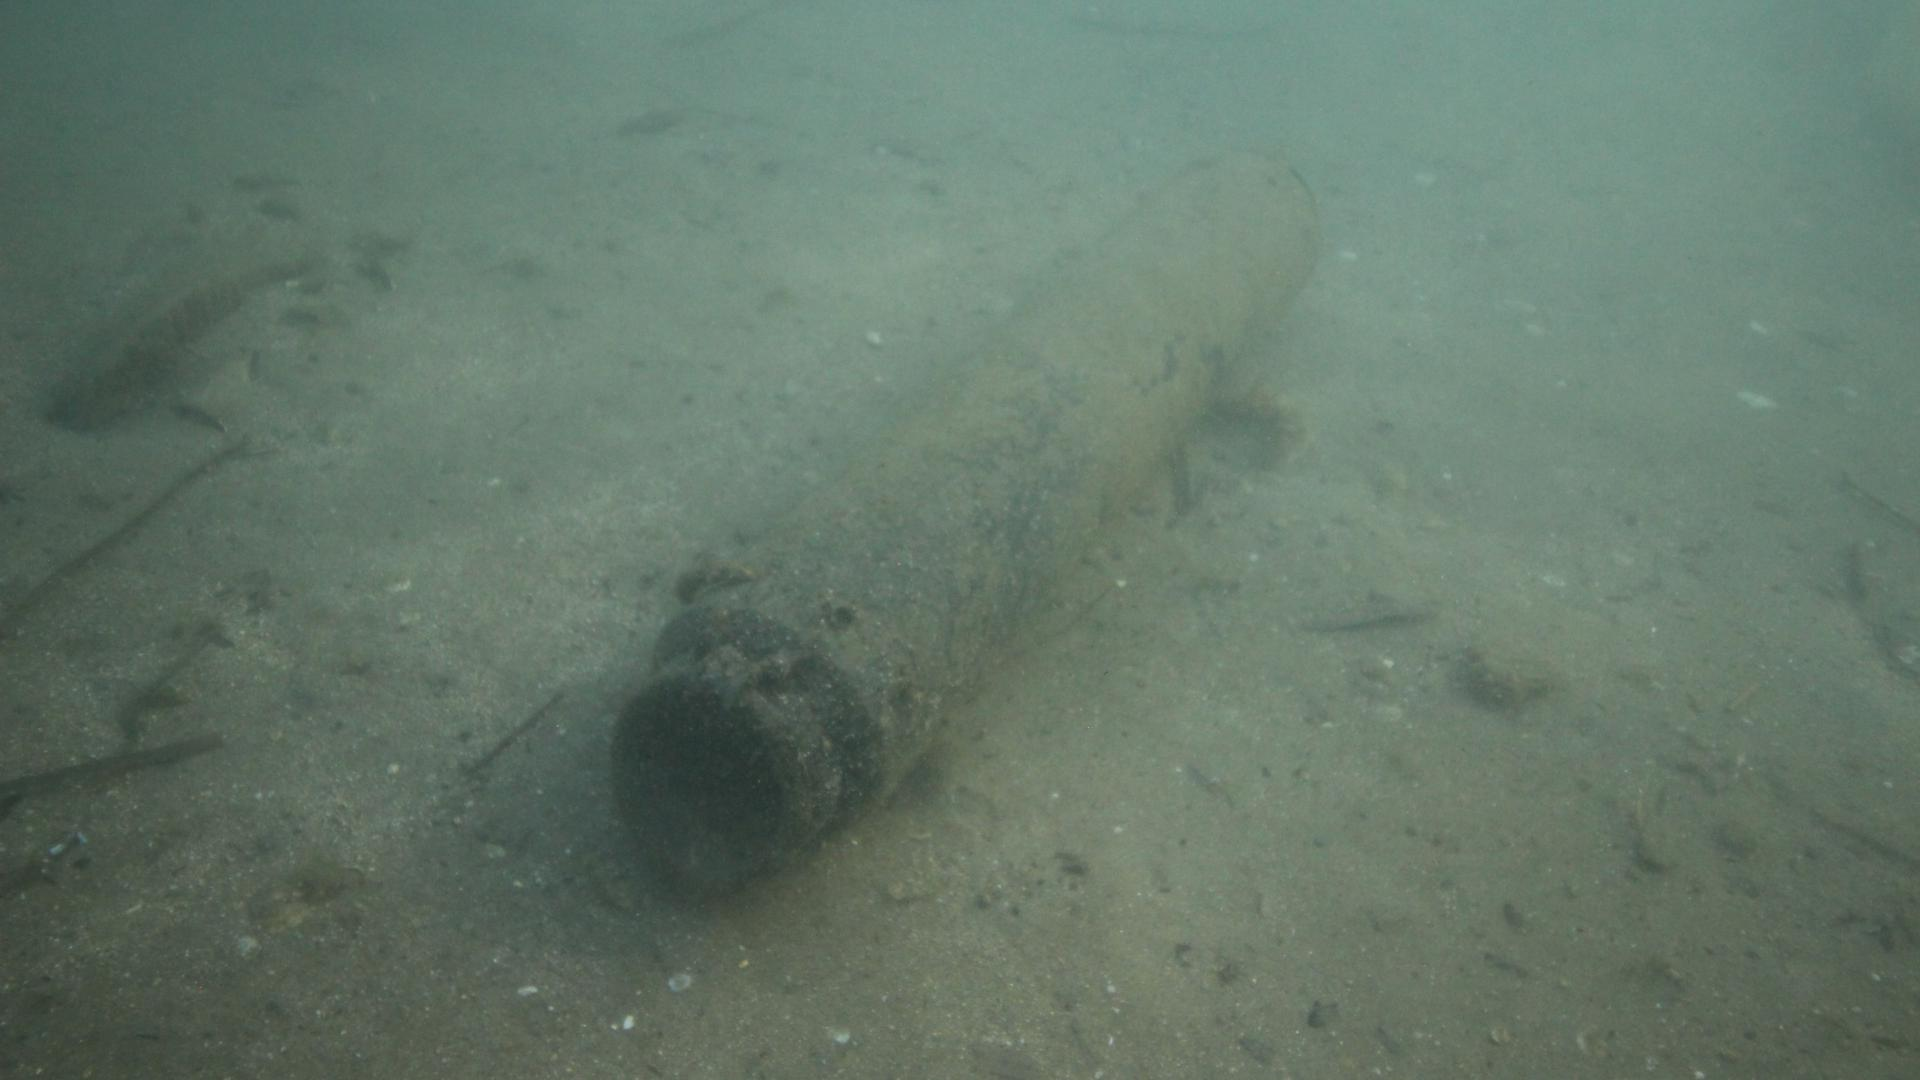eel fish trap: (611, 138, 1327, 901)
